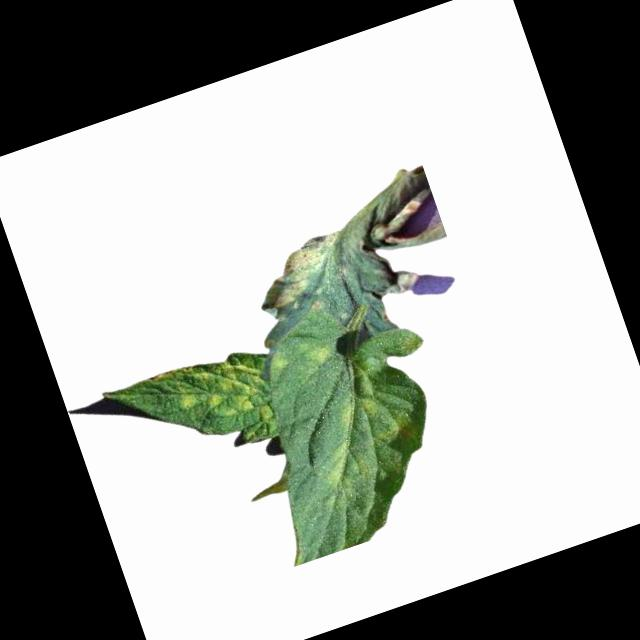Leaf_Mold: (303, 383, 420, 500), (168, 342, 277, 447), (250, 229, 357, 318), (301, 337, 341, 375)
